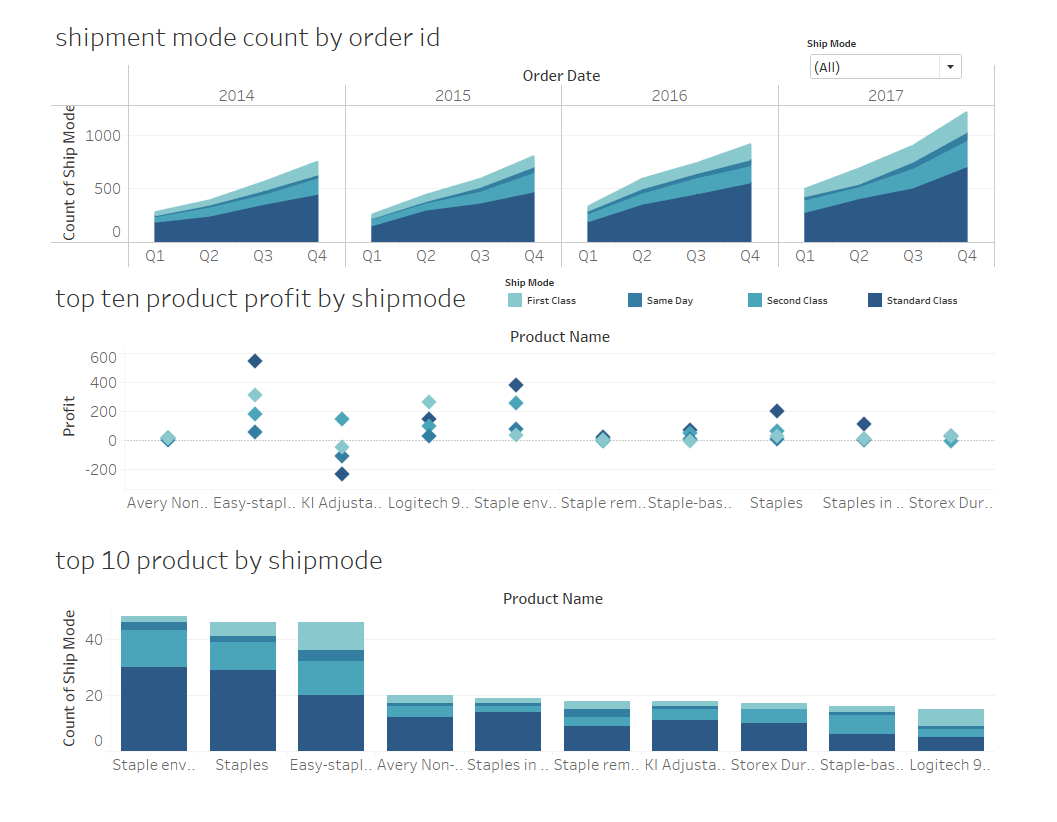

The page's visual inventory and layout, read from the dashboard file:
{"tool":"tableau","page":{"name":"Product and shipment ","canvas":[1000,800],"ordinal":5},"visuals":[{"type":"worksheet","title":"shipment mode count by order id","mark":"Area","rows":["Ship Mode"],"cols":["Order Date","Order Date"],"box":[8,8,952,261.3]},{"type":"filter","title":"shipment mode count by order id","param":"[federated.1t0746c1y66k571a7qr960tc11w9].[none:Ship Mode:nk]","box":[768,33,158,48]},{"type":"worksheet","title":"top ten product profit by shipmode","mark":"Shape","rows":["Profit"],"cols":["Product Name"],"box":[8,269.3,952,261.3]},{"type":"legend","title":"shipment mode count by order id","param":"[federated.1t0746c1y66k571a7qr960tc11w9].[none:Ship Mode:nk]","box":[466,272,497,46]},{"type":"worksheet","title":"top 10 product by shipmode","mark":"Automatic","rows":["Ship Mode"],"cols":["Product Name"],"box":[8,530.7,952,261.3]}]}

Visuals, with their boxes in screenshot pixels (x1, y1, x2, y2), scaled from the page's 1000x800 canvas onto the 1057x822 screenshot:
"shipment mode count by order id" worksheet (Area marks): [8,8,1015,277]
"shipment mode count by order id" filter: [812,34,979,83]
"top ten product profit by shipmode" worksheet (Shape marks): [8,277,1015,545]
"shipment mode count by order id" legend: [493,279,1018,327]
"top 10 product by shipmode" worksheet: [8,545,1015,814]
